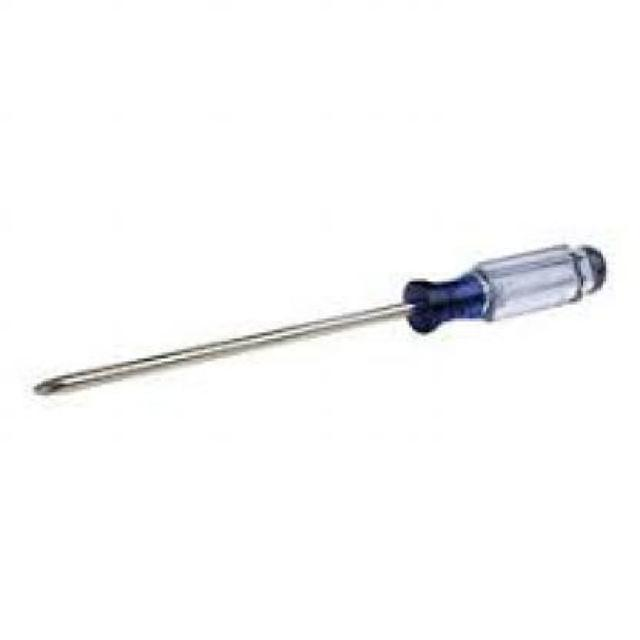screwdriver: (33, 242, 610, 396)
